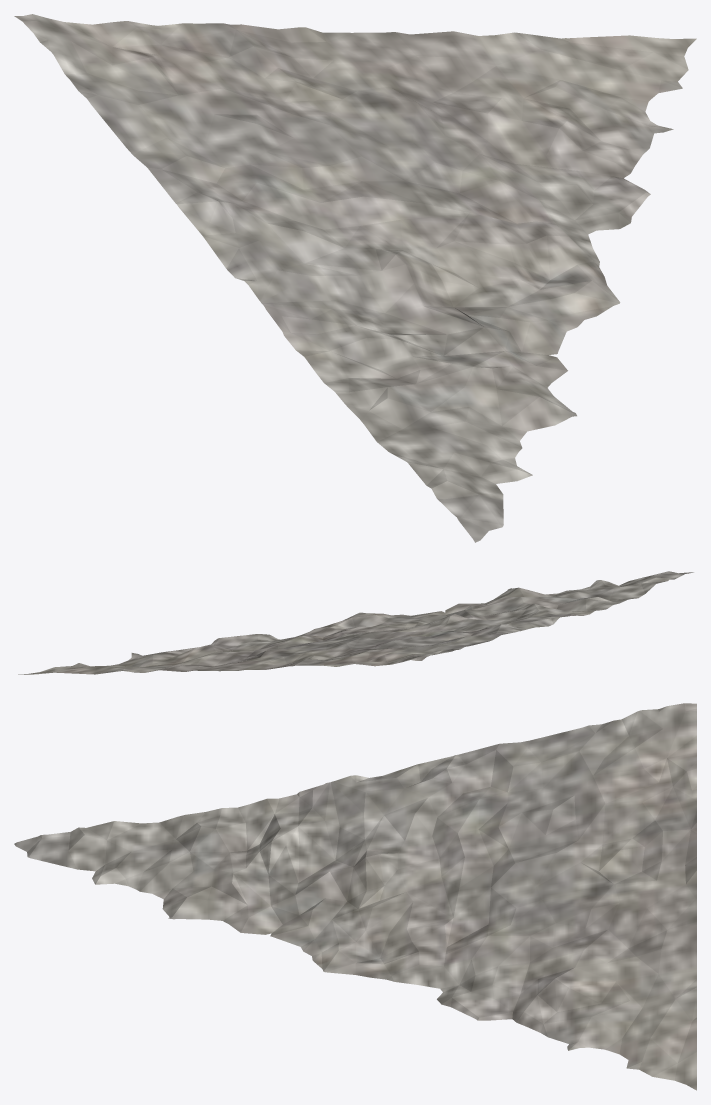
3 views of the same model, one above another, from view 1: azimuth 30°, elevation 25°; view 2: azimuth 150°, elevation 25°; view 3: azimuth 270°, elevation 25° (orthographic). The views are drawn at different scales.
Size of the model in its own units: 0.4534 by 0.1205 by 0.5302.
1 material, 1 textured.
